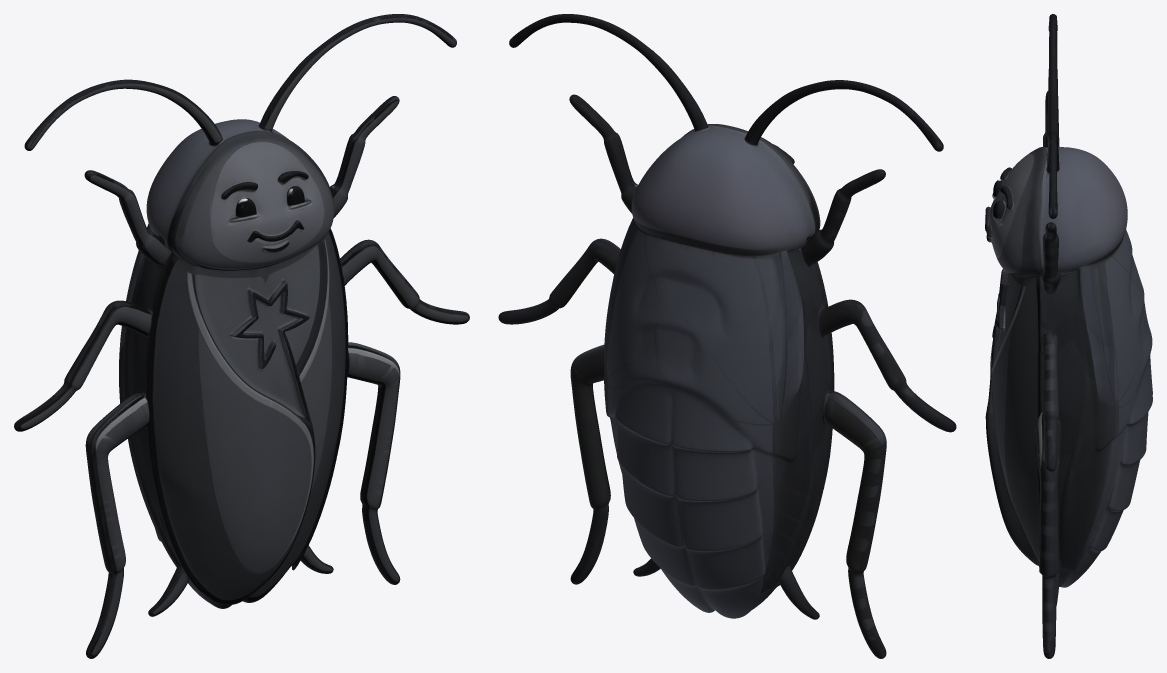
Rendered from Meshy_AI_cutebug_0413014622_texture.fbx.
3 renders of one model, left to right at view 1: azimuth 30°, elevation 25°; view 2: azimuth 150°, elevation 25°; view 3: azimuth 270°, elevation 25°, orthographic. The views are drawn at different scales.
Parts seen in each view (by area): view 1: Mesh_0; view 2: Mesh_0; view 3: Mesh_0.
Boxes of the visible parts, x1=… form: Mesh_0: x1=14, y1=14, x2=469, y2=658; Mesh_0: x1=498, y1=14, x2=956, y2=658; Mesh_0: x1=985, y1=14, x2=1152, y2=658.
Bounding box in the file's own units: 159 × 190 × 56.7.
1 material, 1 textured.
